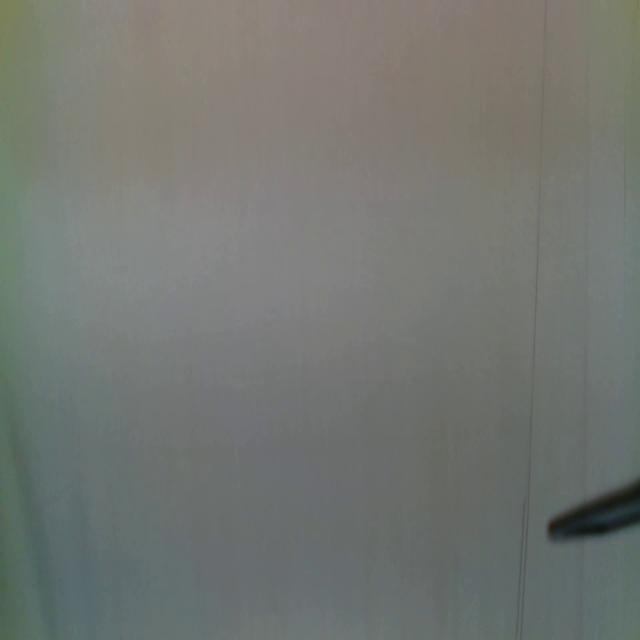color bleeding: (4, 0, 639, 224)
crease: (515, 0, 548, 639)
